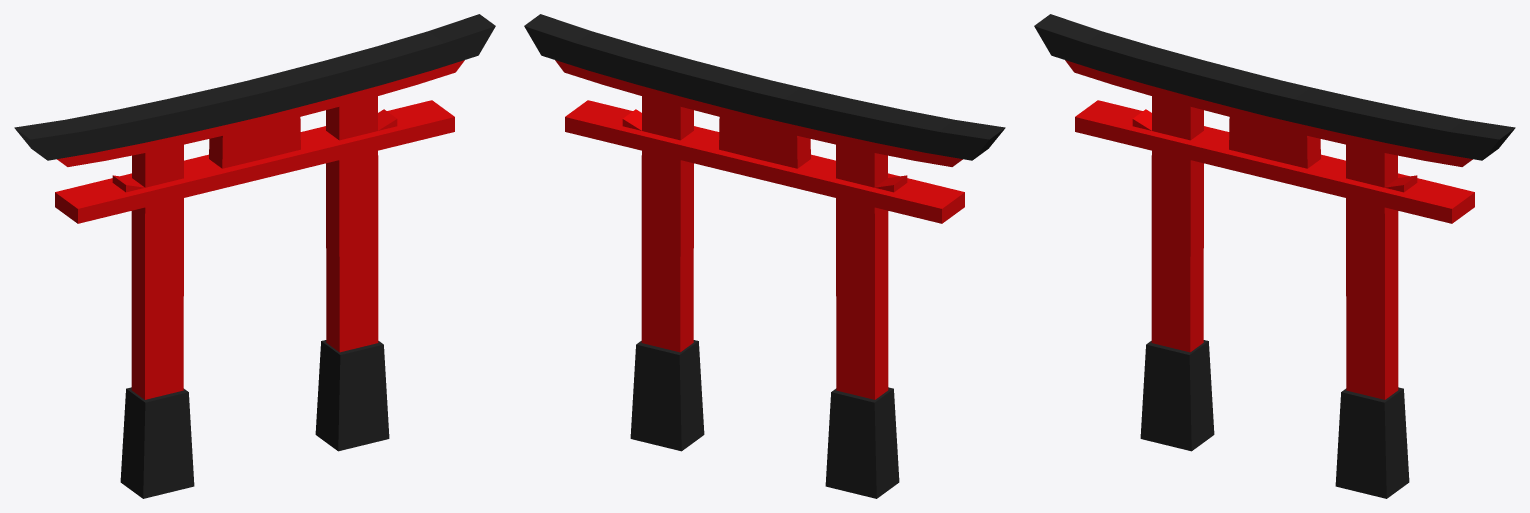
Rendered from SGD230 TASK2-TORII.fbx.
The picture shows the model from 3 angles, left to right: view 1: azimuth 30°, elevation 25°; view 2: azimuth 150°, elevation 25°; view 3: azimuth 330°, elevation 25°; orthographic projection.
Parts seen in each view (by area): view 1: Cube; view 2: Cube; view 3: Cube.
Part boxes in pixels (left/top/right/bottom): Cube: left=14, top=14, right=495, bottom=498; Cube: left=524, top=14, right=1005, bottom=498; Cube: left=1034, top=14, right=1515, bottom=498.
Size of the model in its own units: 362 by 285 by 30.95.
